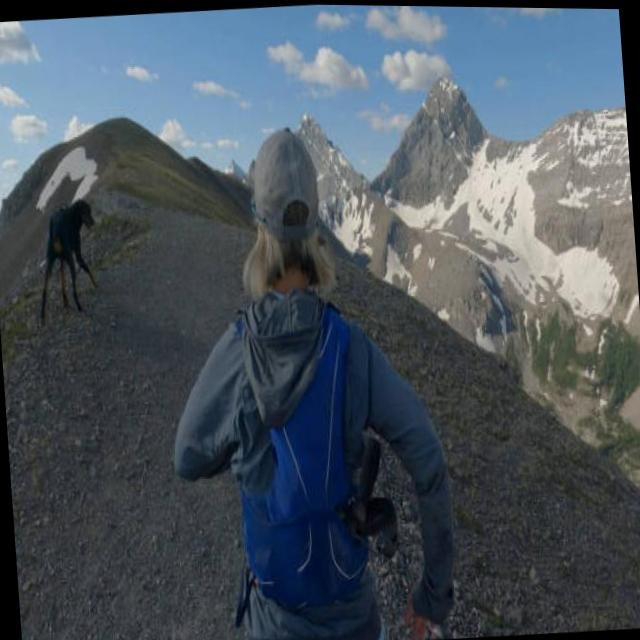no helmet: (223, 108, 339, 327)
